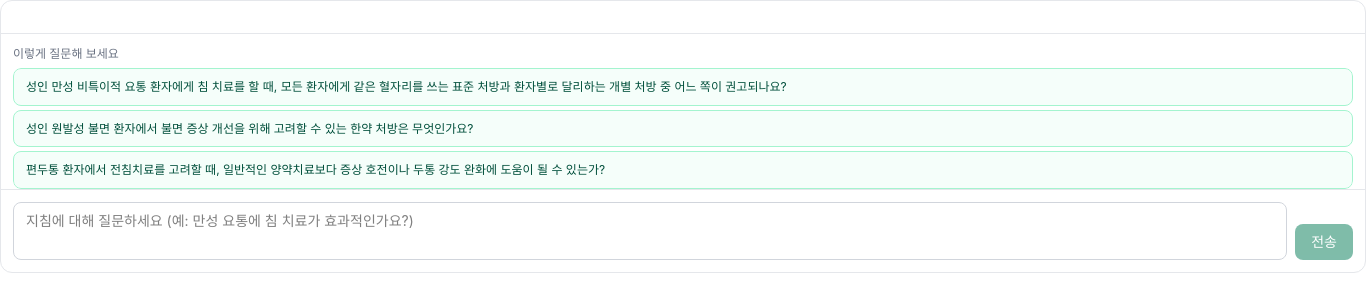
Test case: 스트림 종결: 카드가 답변을 품는다 (PATIENT_GUIDANCE) › 기준 16 ⑵: guidance 없는 로컬 종결 답변에는 카드와 조회 안내가 없다
Type "CASE-057 합성진단-57a 기록의 확인 순서를 정리해 주세요." into the text box named "질문 입력" at [650, 230], box [13, 202, 1287, 260]
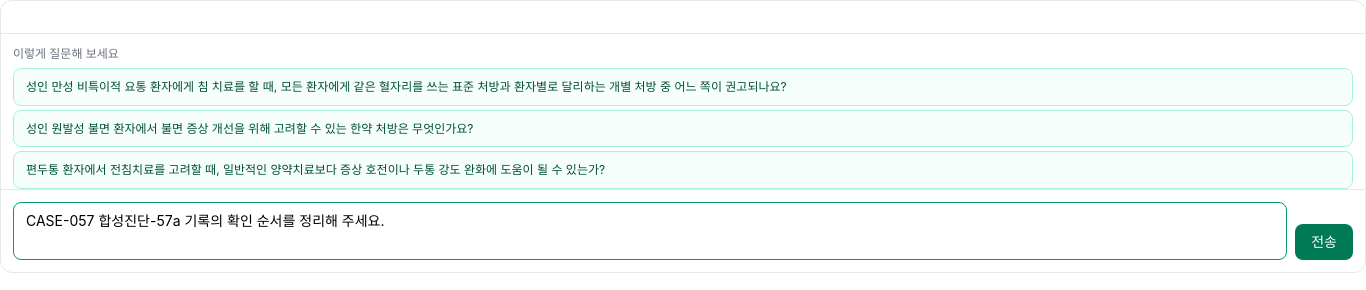
Click the button "전송" at [1324, 242], box [1295, 224, 1353, 260]
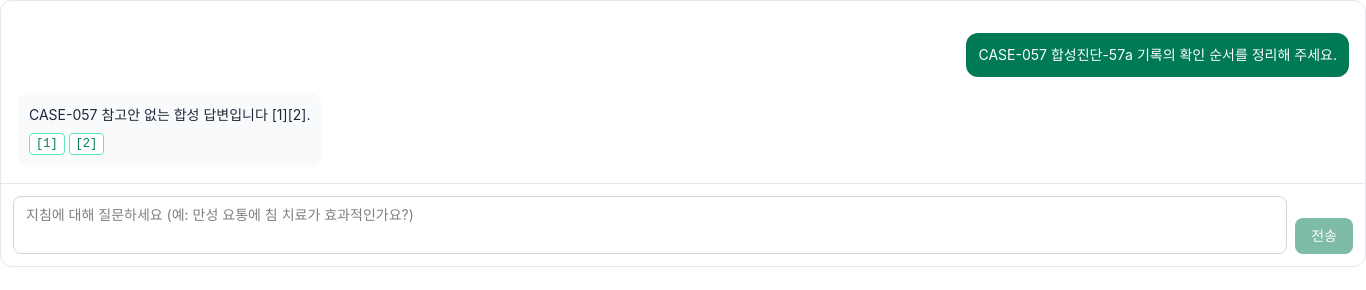
Expected: the text "CASE-057 참고안 없는 합성 답변입니다 [1][2]." is shown, [29, 105, 310, 125]
